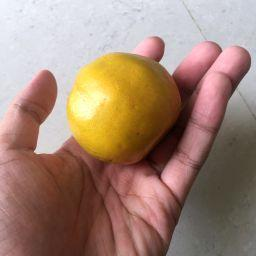Ripe: (69, 54, 179, 163)
